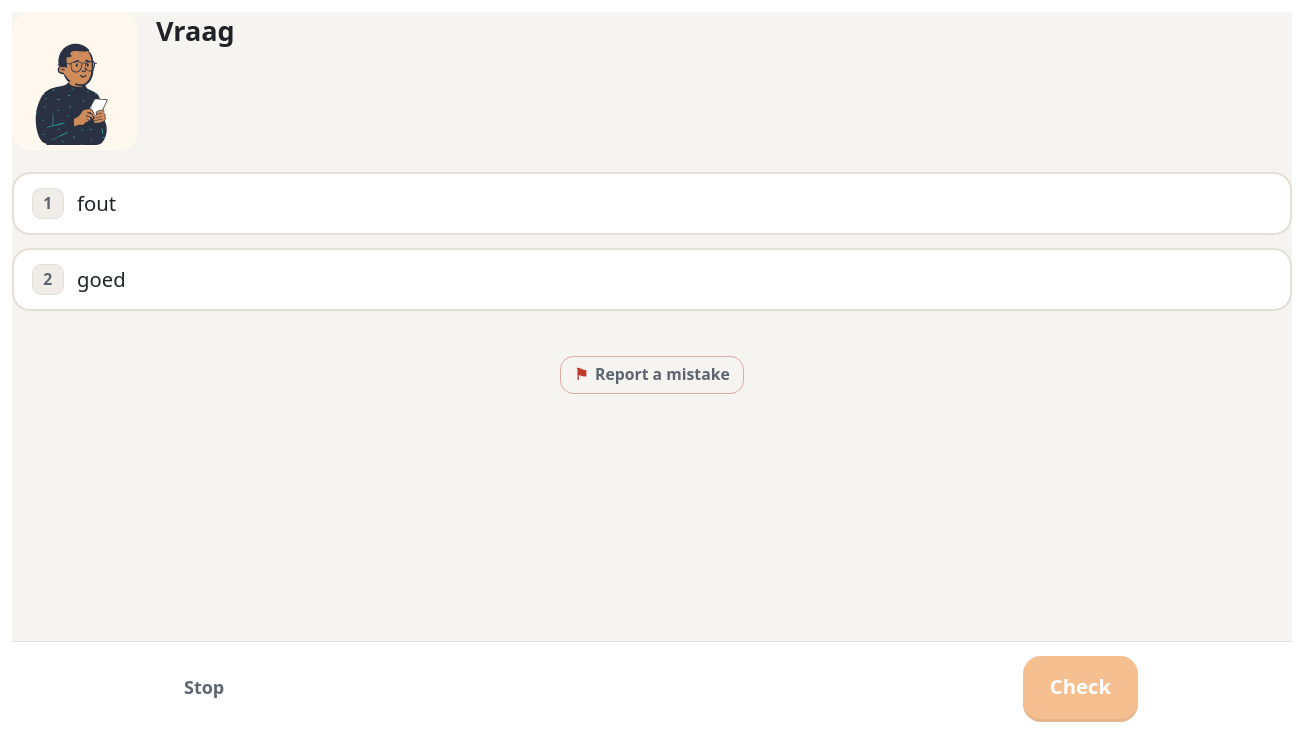
Test: feedback is Dutch first › shows Dutch feedback even when the rest of the app is in English
Click the button "1 fout" at x=48, y=203, box [12, 172, 1292, 235]
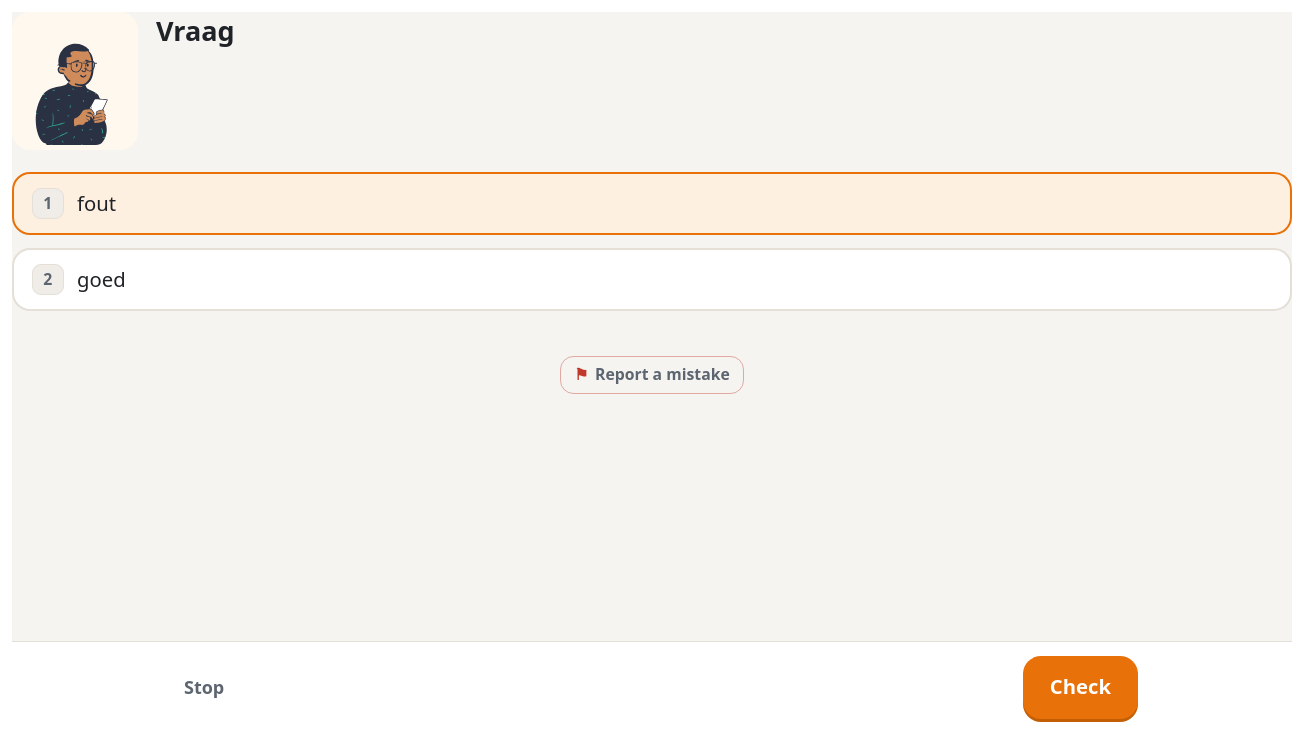
Click the button "Check" at x=1080, y=687, box [1023, 656, 1138, 718]
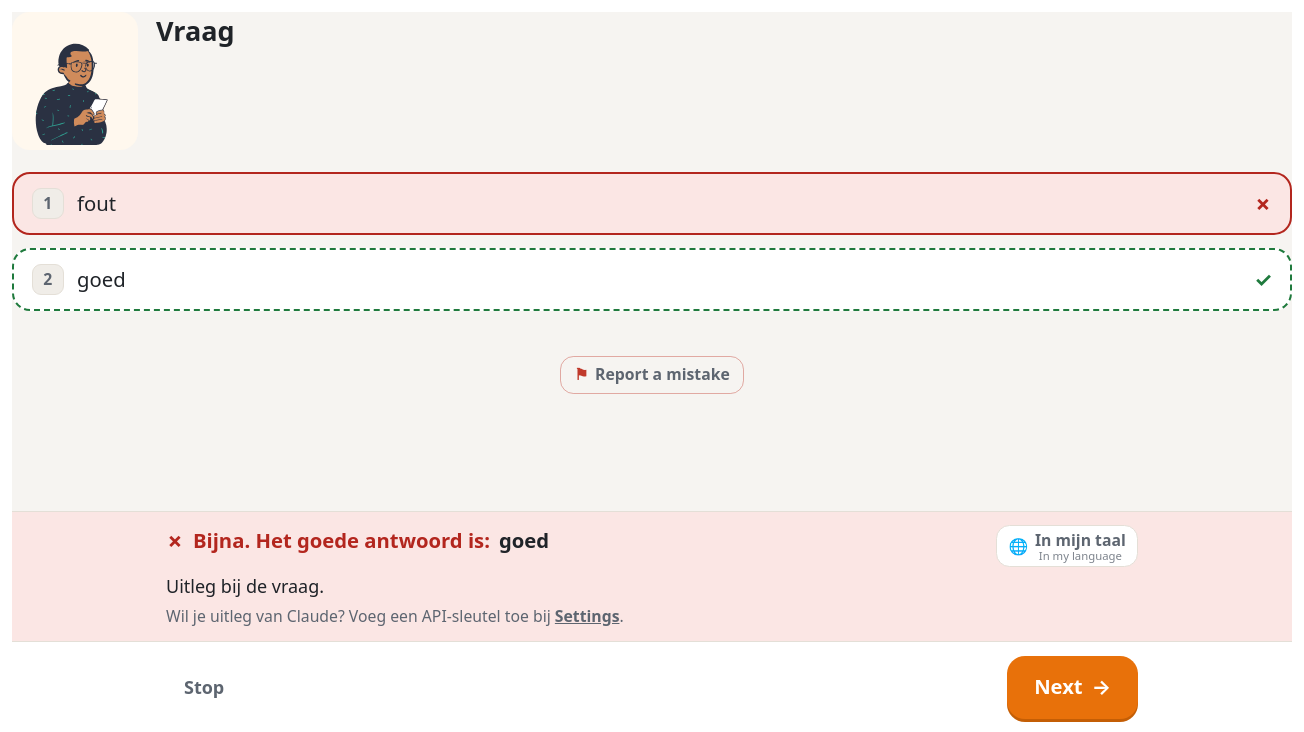
expect the message shows "Bijna. Het goede antwoord is:": met, box [193, 526, 490, 554]
